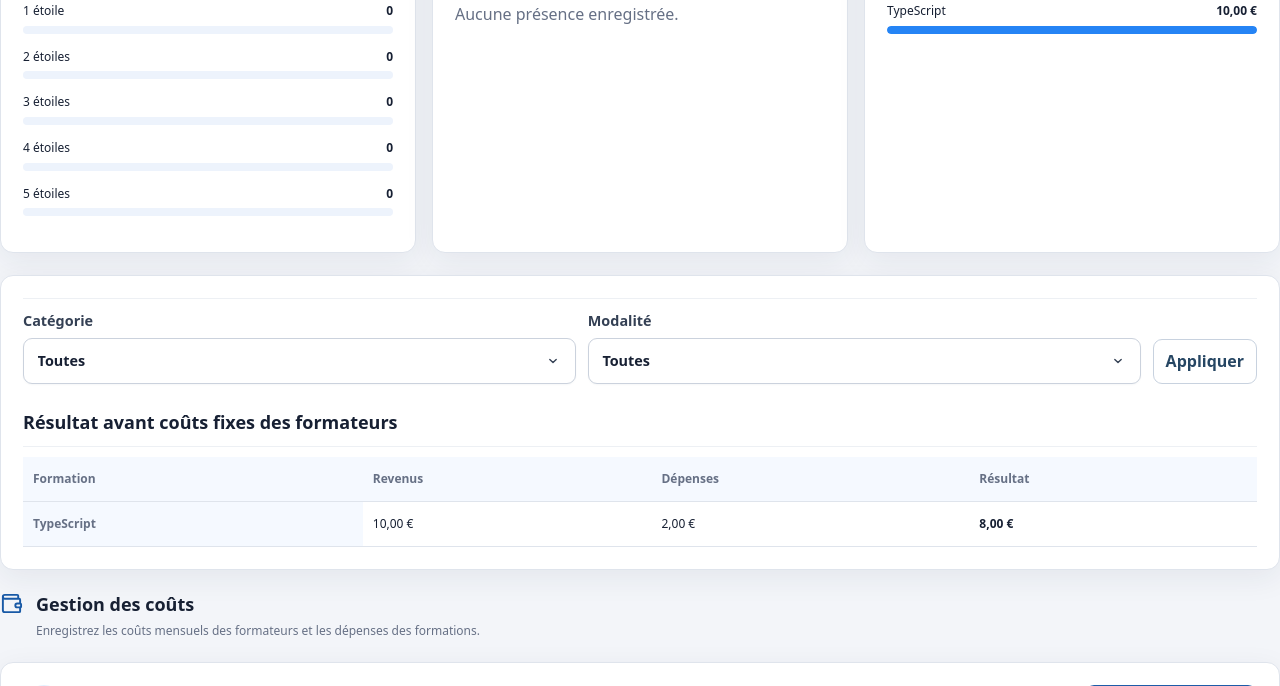
Test case: Phase 11 Admin dashboard UI › keeps modality filters usable and explains an empty filtered result
(page scrolled)
Expected: the element named "Résultats financiers par formation" is shown, [23,446,1257,547]
Select "Présentiel" in the dropdown labelled "Modalité": (864, 361) [589,339,1140,383]
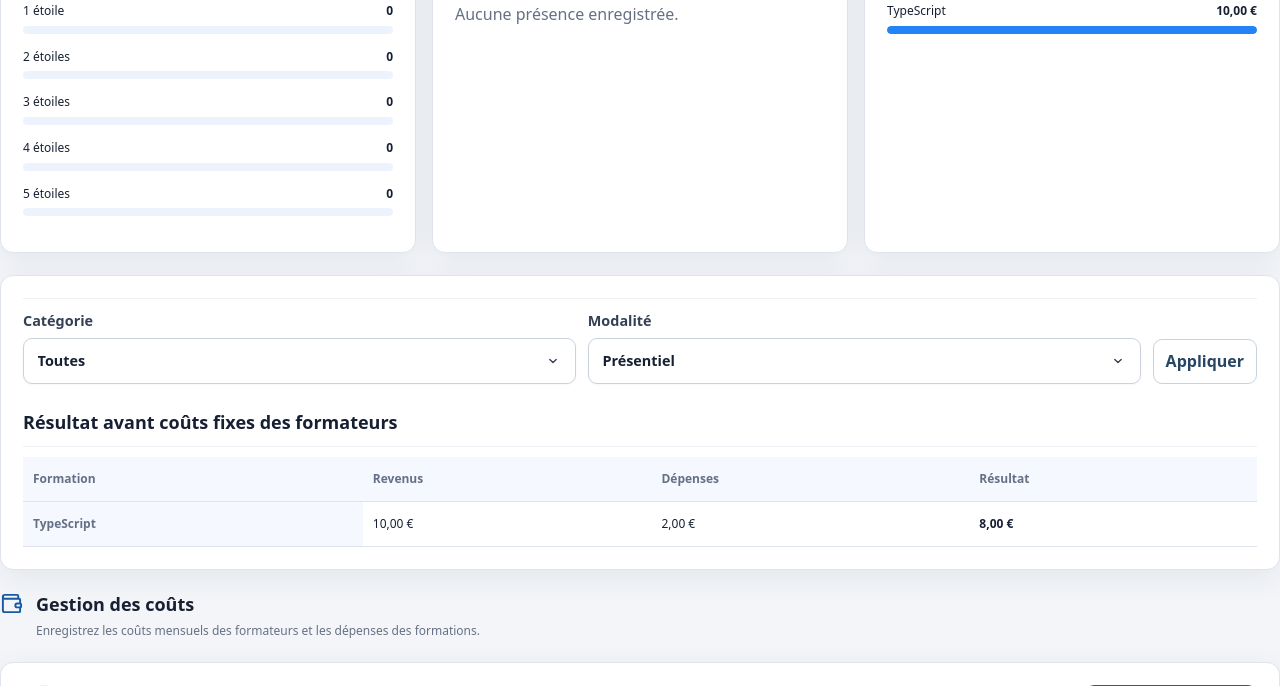
Click the button "Appliquer": (1205, 361) [1153,339,1257,384]
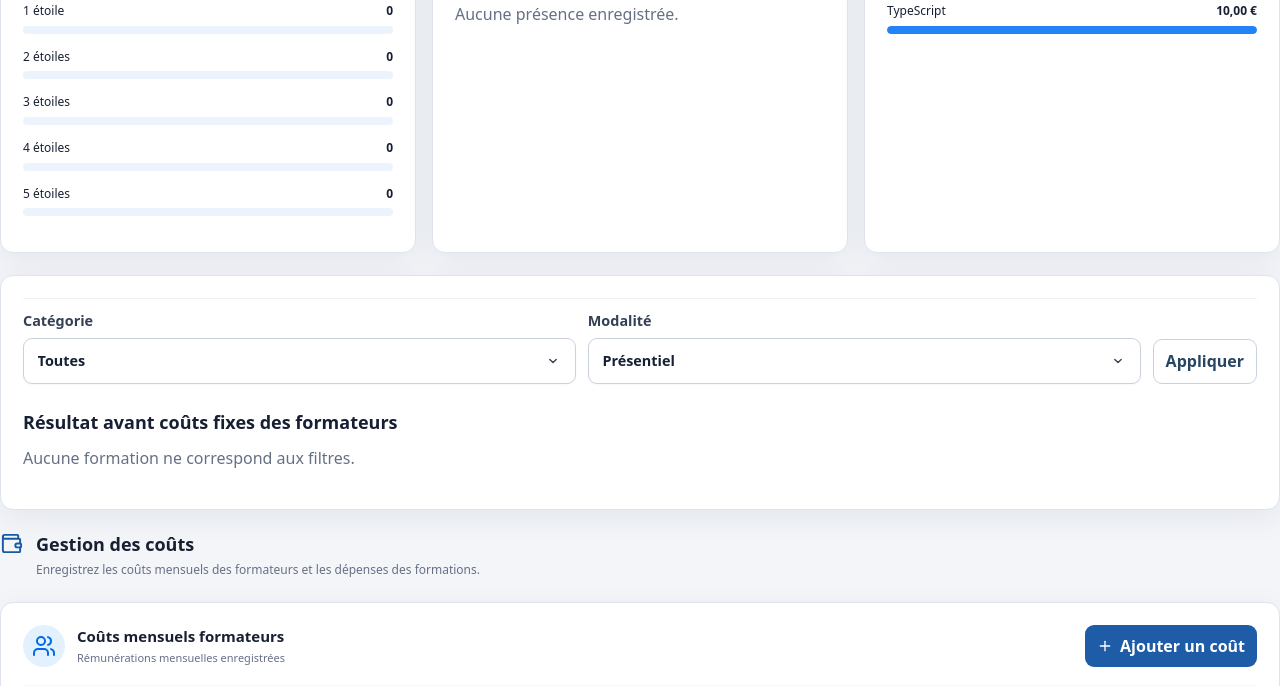
Expected: the text "Aucune formation ne correspond aux filtres." is shown, [23,447,355,469]
Select "Toutes" in the dropdown labelled "Modalité": (864, 361) [589,339,1140,383]
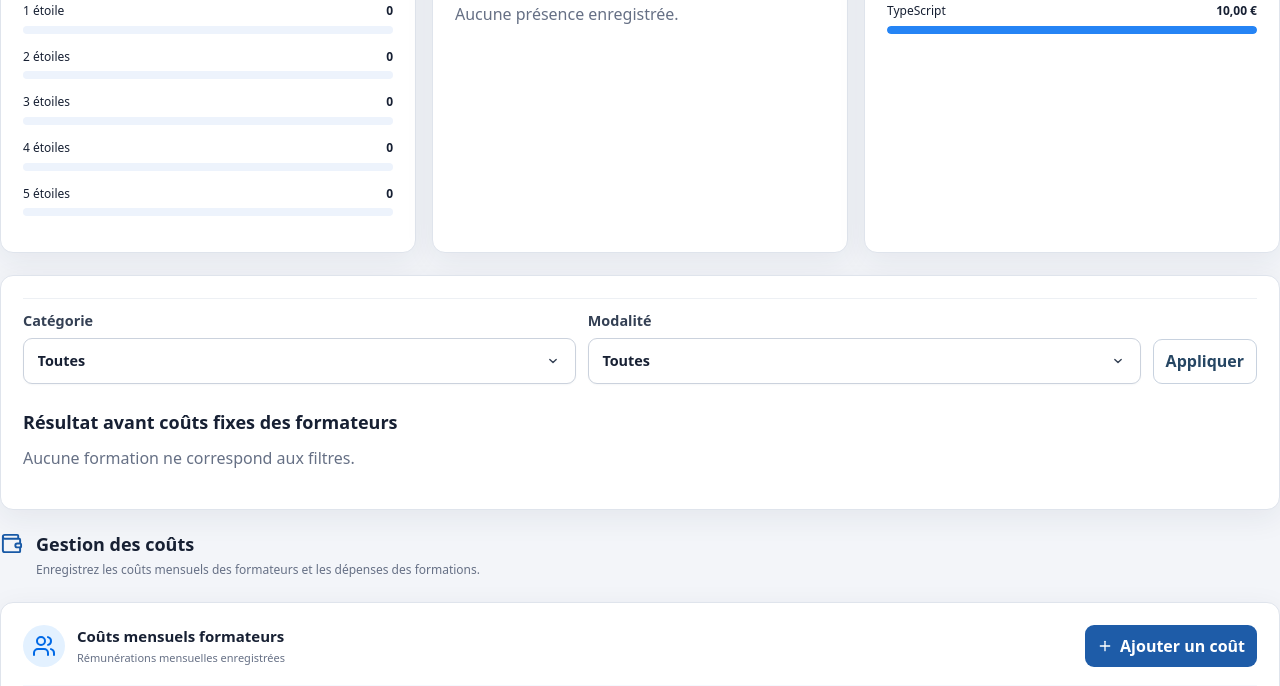
Click the button "Appliquer": (1205, 361) [1153,339,1257,384]
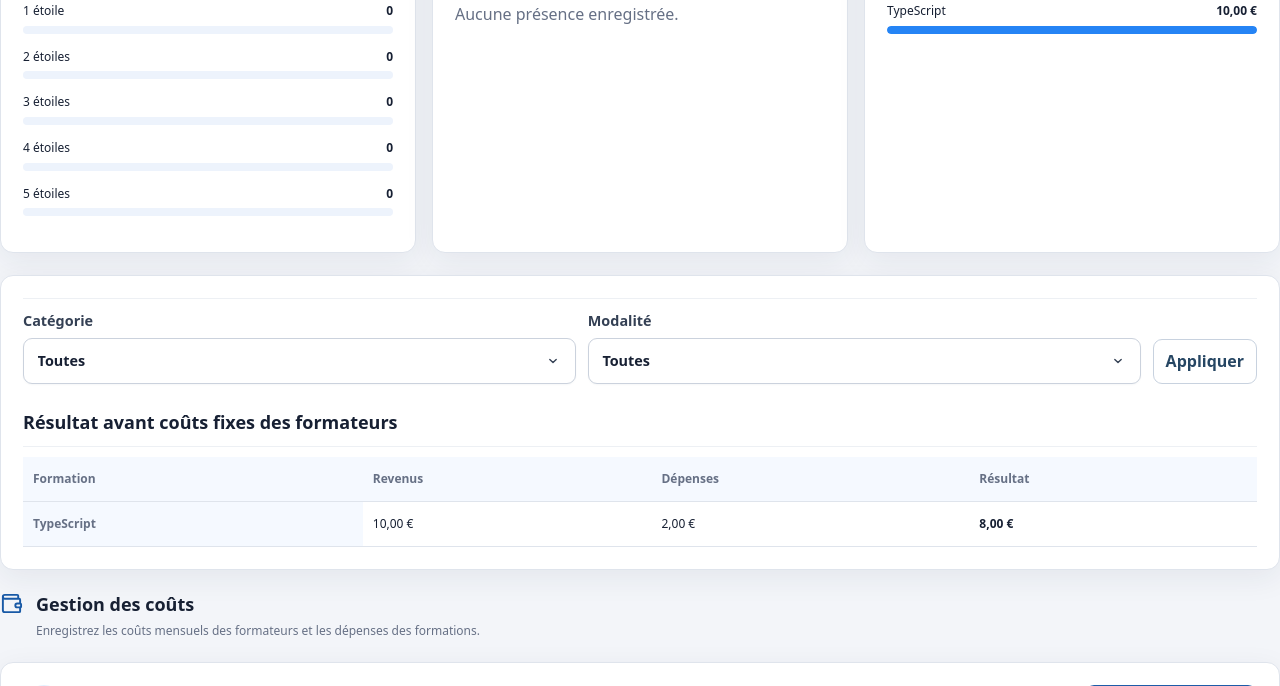
Expected: the element named "Résultats financiers par formation" is shown, [23,446,1257,547]
